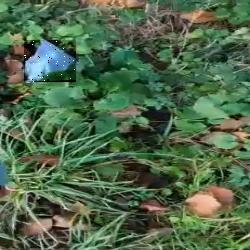plastic: (24, 40, 76, 82)
